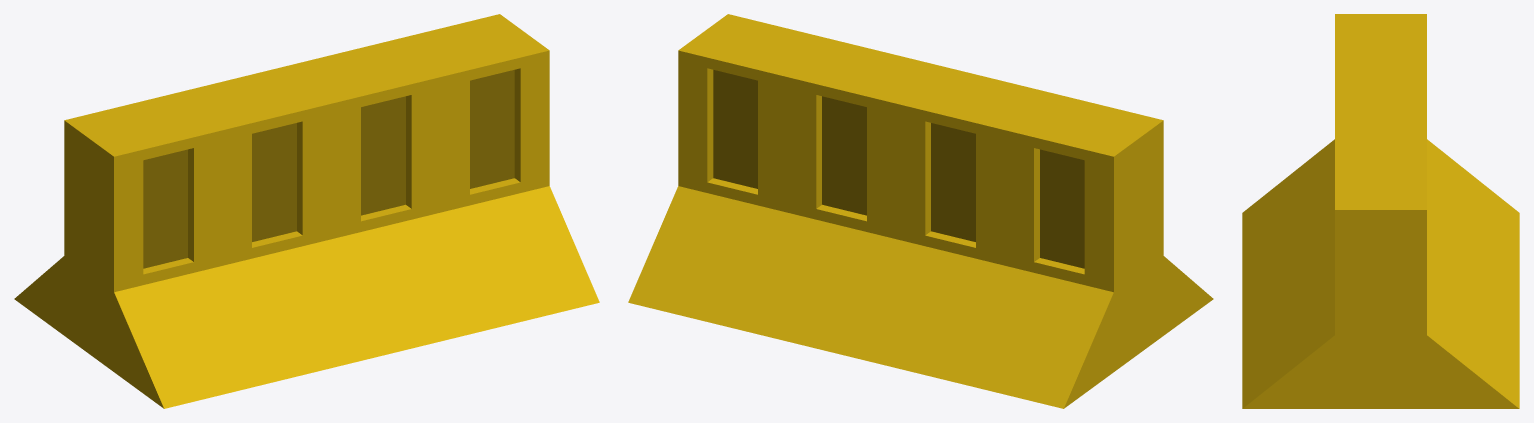
Rendered from barrier.glb.
3 renders of one model, left to right at view 1: azimuth 30°, elevation 25°; view 2: azimuth 150°, elevation 25°; view 3: azimuth 270°, elevation 25°, orthographic. The views are drawn at different scales.
Parts seen in each view (by area): view 1: TrafficBarrier_02_Cube.022; view 2: TrafficBarrier_02_Cube.022; view 3: TrafficBarrier_02_Cube.022.
Part boxes in pixels (x1,y1,x2,y2): TrafficBarrier_02_Cube.022: (14,14,599,408); TrafficBarrier_02_Cube.022: (628,14,1213,408); TrafficBarrier_02_Cube.022: (1242,14,1519,408).
Bounding box in the file's own units: 6.42 × 3.03 × 3.83.
Materials: 2 (2 with a texture image).
